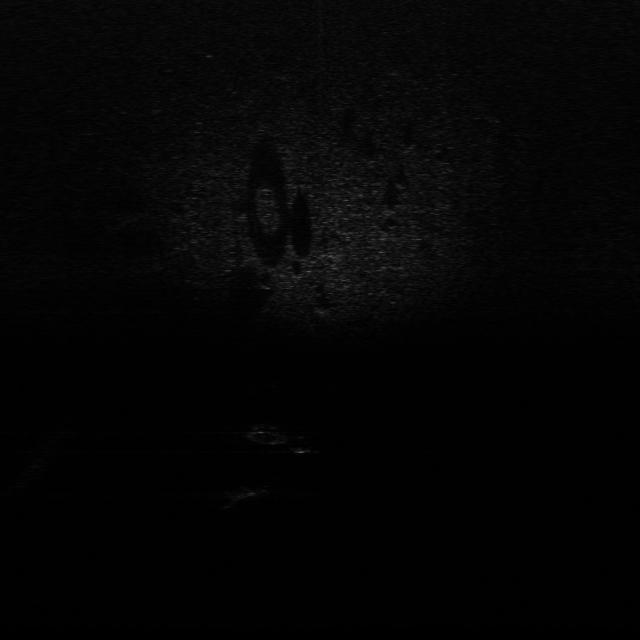ball: (284, 435, 317, 456)
square cage: (218, 484, 292, 506)
tyre: (244, 420, 290, 448)
